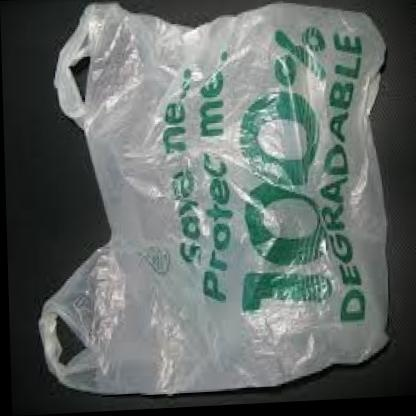trash: (39, 4, 386, 393)
